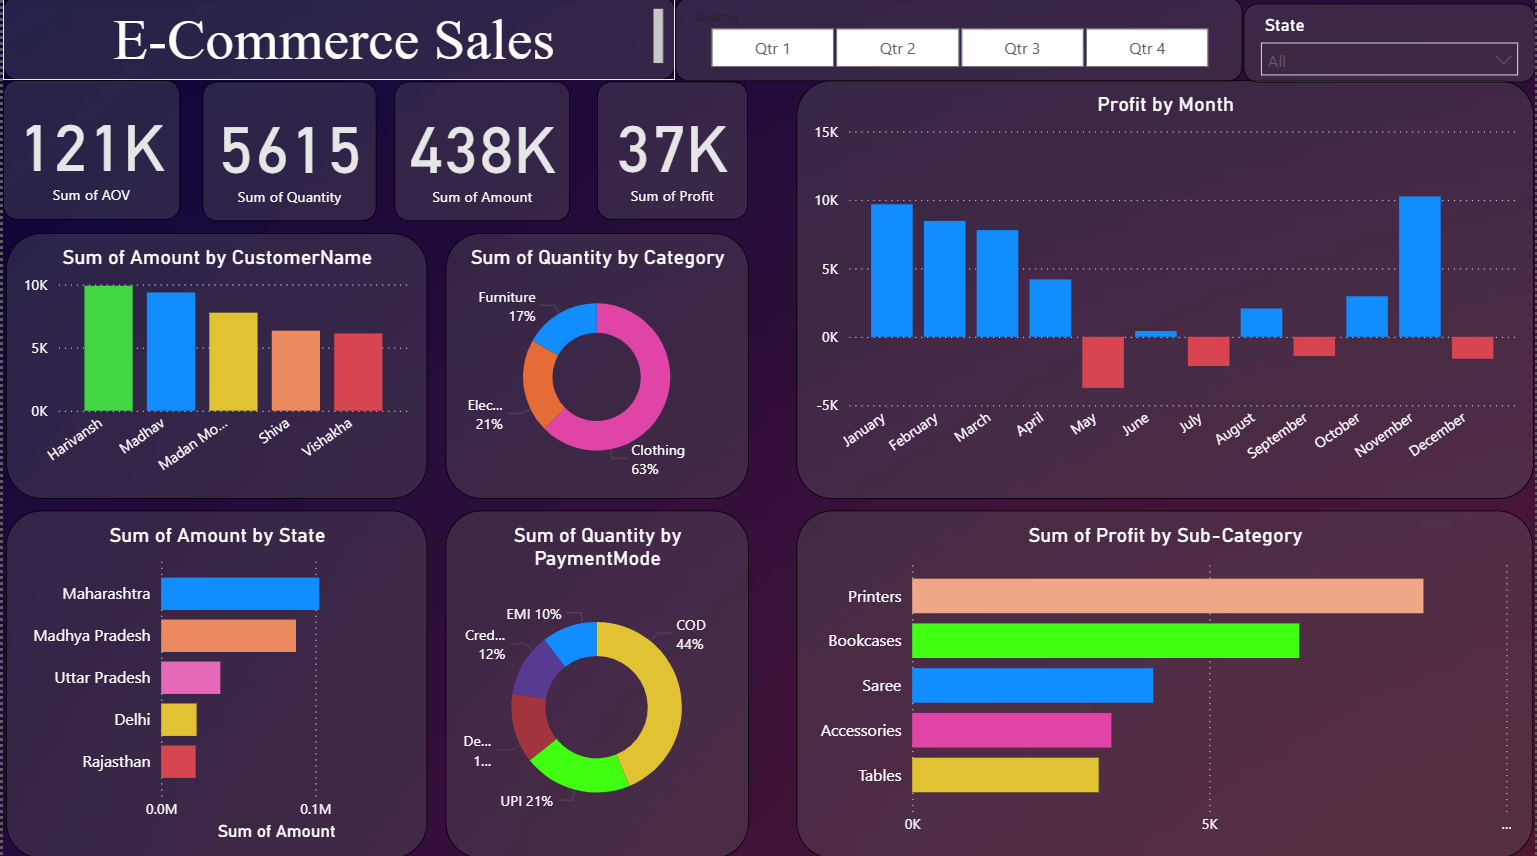

The dashboard page shown, as its layout file describes it:
{"tool":"powerbi","page":{"name":"Page 1","canvas":[1280,720],"ordinal":0},"visuals":[{"type":"textbox","box":[0,0,561.4,70],"z":0},{"type":"columnChart","title":" Profit by Month","fields":{"Y":["Sum(Details.Profit)"],"Category":["Orders.Order Date.Variation.Date Hierarchy.Month"]},"box":[662.9,70,615.7,350],"z":1000},{"type":"barChart","fields":{"Category":["Details.Sub-Category"],"Y":["Sum(Details.Profit)"]},"box":[662.8,429.8,615.2,290.7],"z":2000},{"type":"donutChart","fields":{"Category":["Details.Category"],"Y":["Sum(Details.Quantity)"]},"box":[369.6,198,253.1,221.8],"z":3000},{"type":"donutChart","fields":{"Y":["Sum(Details.Quantity)"],"Category":["Details.PaymentMode"]},"box":[369.6,429.8,253.1,290.7],"z":4000},{"type":"card","fields":{"Values":["Sum(Details.Amount)"]},"box":[327.1,71.2,146.9,116.6],"z":5000},{"type":"card","fields":{"Values":["Sum(Details.Profit)"]},"box":[496.7,71.2,125.7,115.1],"z":6000},{"type":"card","fields":{"Values":["Sum(Details.Quantity)"]},"box":[166.6,71.4,145.3,116.5],"z":7000},{"type":"card","fields":{"Values":["Sum(Details.AOV)"]},"box":[0,70.2,147.8,116.5],"z":8000},{"type":"clusteredBarChart","fields":{"Category":["Orders.State"],"Y":["Sum(Details.Amount)"]},"box":[2.5,429.8,352.1,290.7],"z":9000},{"type":"columnChart","fields":{"Category":["Orders.CustomerName"],"Y":["Sum(Details.Amount)"]},"box":[2.5,198,352.1,221.8],"z":10000},{"type":"slicer","fields":{"Values":["Orders.Order Date.Variation.Date Hierarchy.Quarter"]},"box":[561.4,1.4,474.3,70],"z":11000},{"type":"slicer","fields":{"Values":["Orders.State"]},"box":[1035.7,5.7,244.3,65.7],"z":12000}]}

Visuals, with their boxes in screenshot pixels (x1, y1, x2, y2), scaled from the page's 1280x720 canvas onto the 1537x856 screenshot:
textbox: Rect(0, 0, 674, 83)
" Profit by Month" columnChart: Rect(796, 83, 1535, 499)
barChart - Details.Sub-Category x Sum(Details.Profit): Rect(796, 511, 1535, 855)
donutChart - Details.Category x Sum(Details.Quantity): Rect(444, 235, 748, 499)
donutChart - Sum(Details.Quantity) x Details.PaymentMode: Rect(444, 511, 748, 855)
card - Sum(Details.Amount): Rect(393, 85, 569, 223)
card - Sum(Details.Profit): Rect(596, 85, 747, 221)
card - Sum(Details.Quantity): Rect(200, 85, 375, 223)
card - Sum(Details.AOV): Rect(0, 83, 177, 222)
clusteredBarChart - Orders.State x Sum(Details.Amount): Rect(3, 511, 426, 855)
columnChart - Orders.CustomerName x Sum(Details.Amount): Rect(3, 235, 426, 499)
slicer - Orders.Order Date.Variation.Date Hierarchy.Quarter: Rect(674, 2, 1244, 85)
slicer - Orders.State: Rect(1244, 7, 1536, 85)
